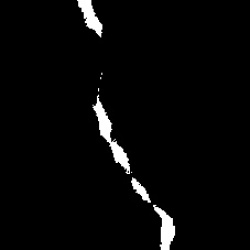crack: (91, 70, 176, 247), (76, 1, 107, 38)
